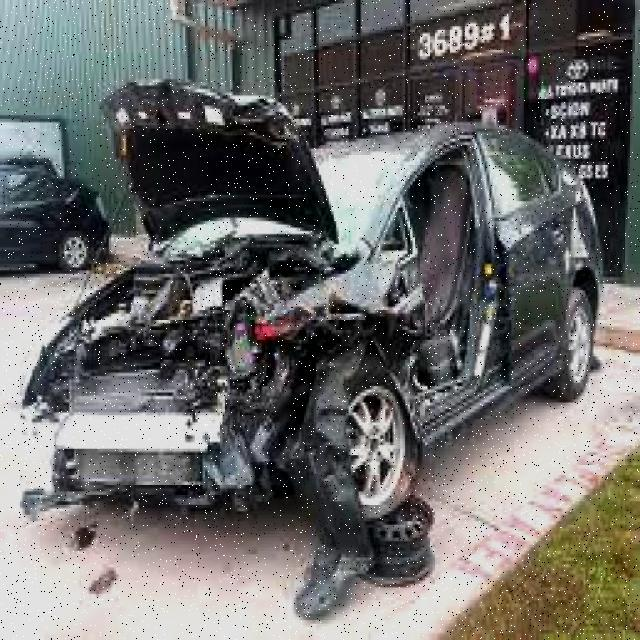car damage: (19, 245, 479, 611)
